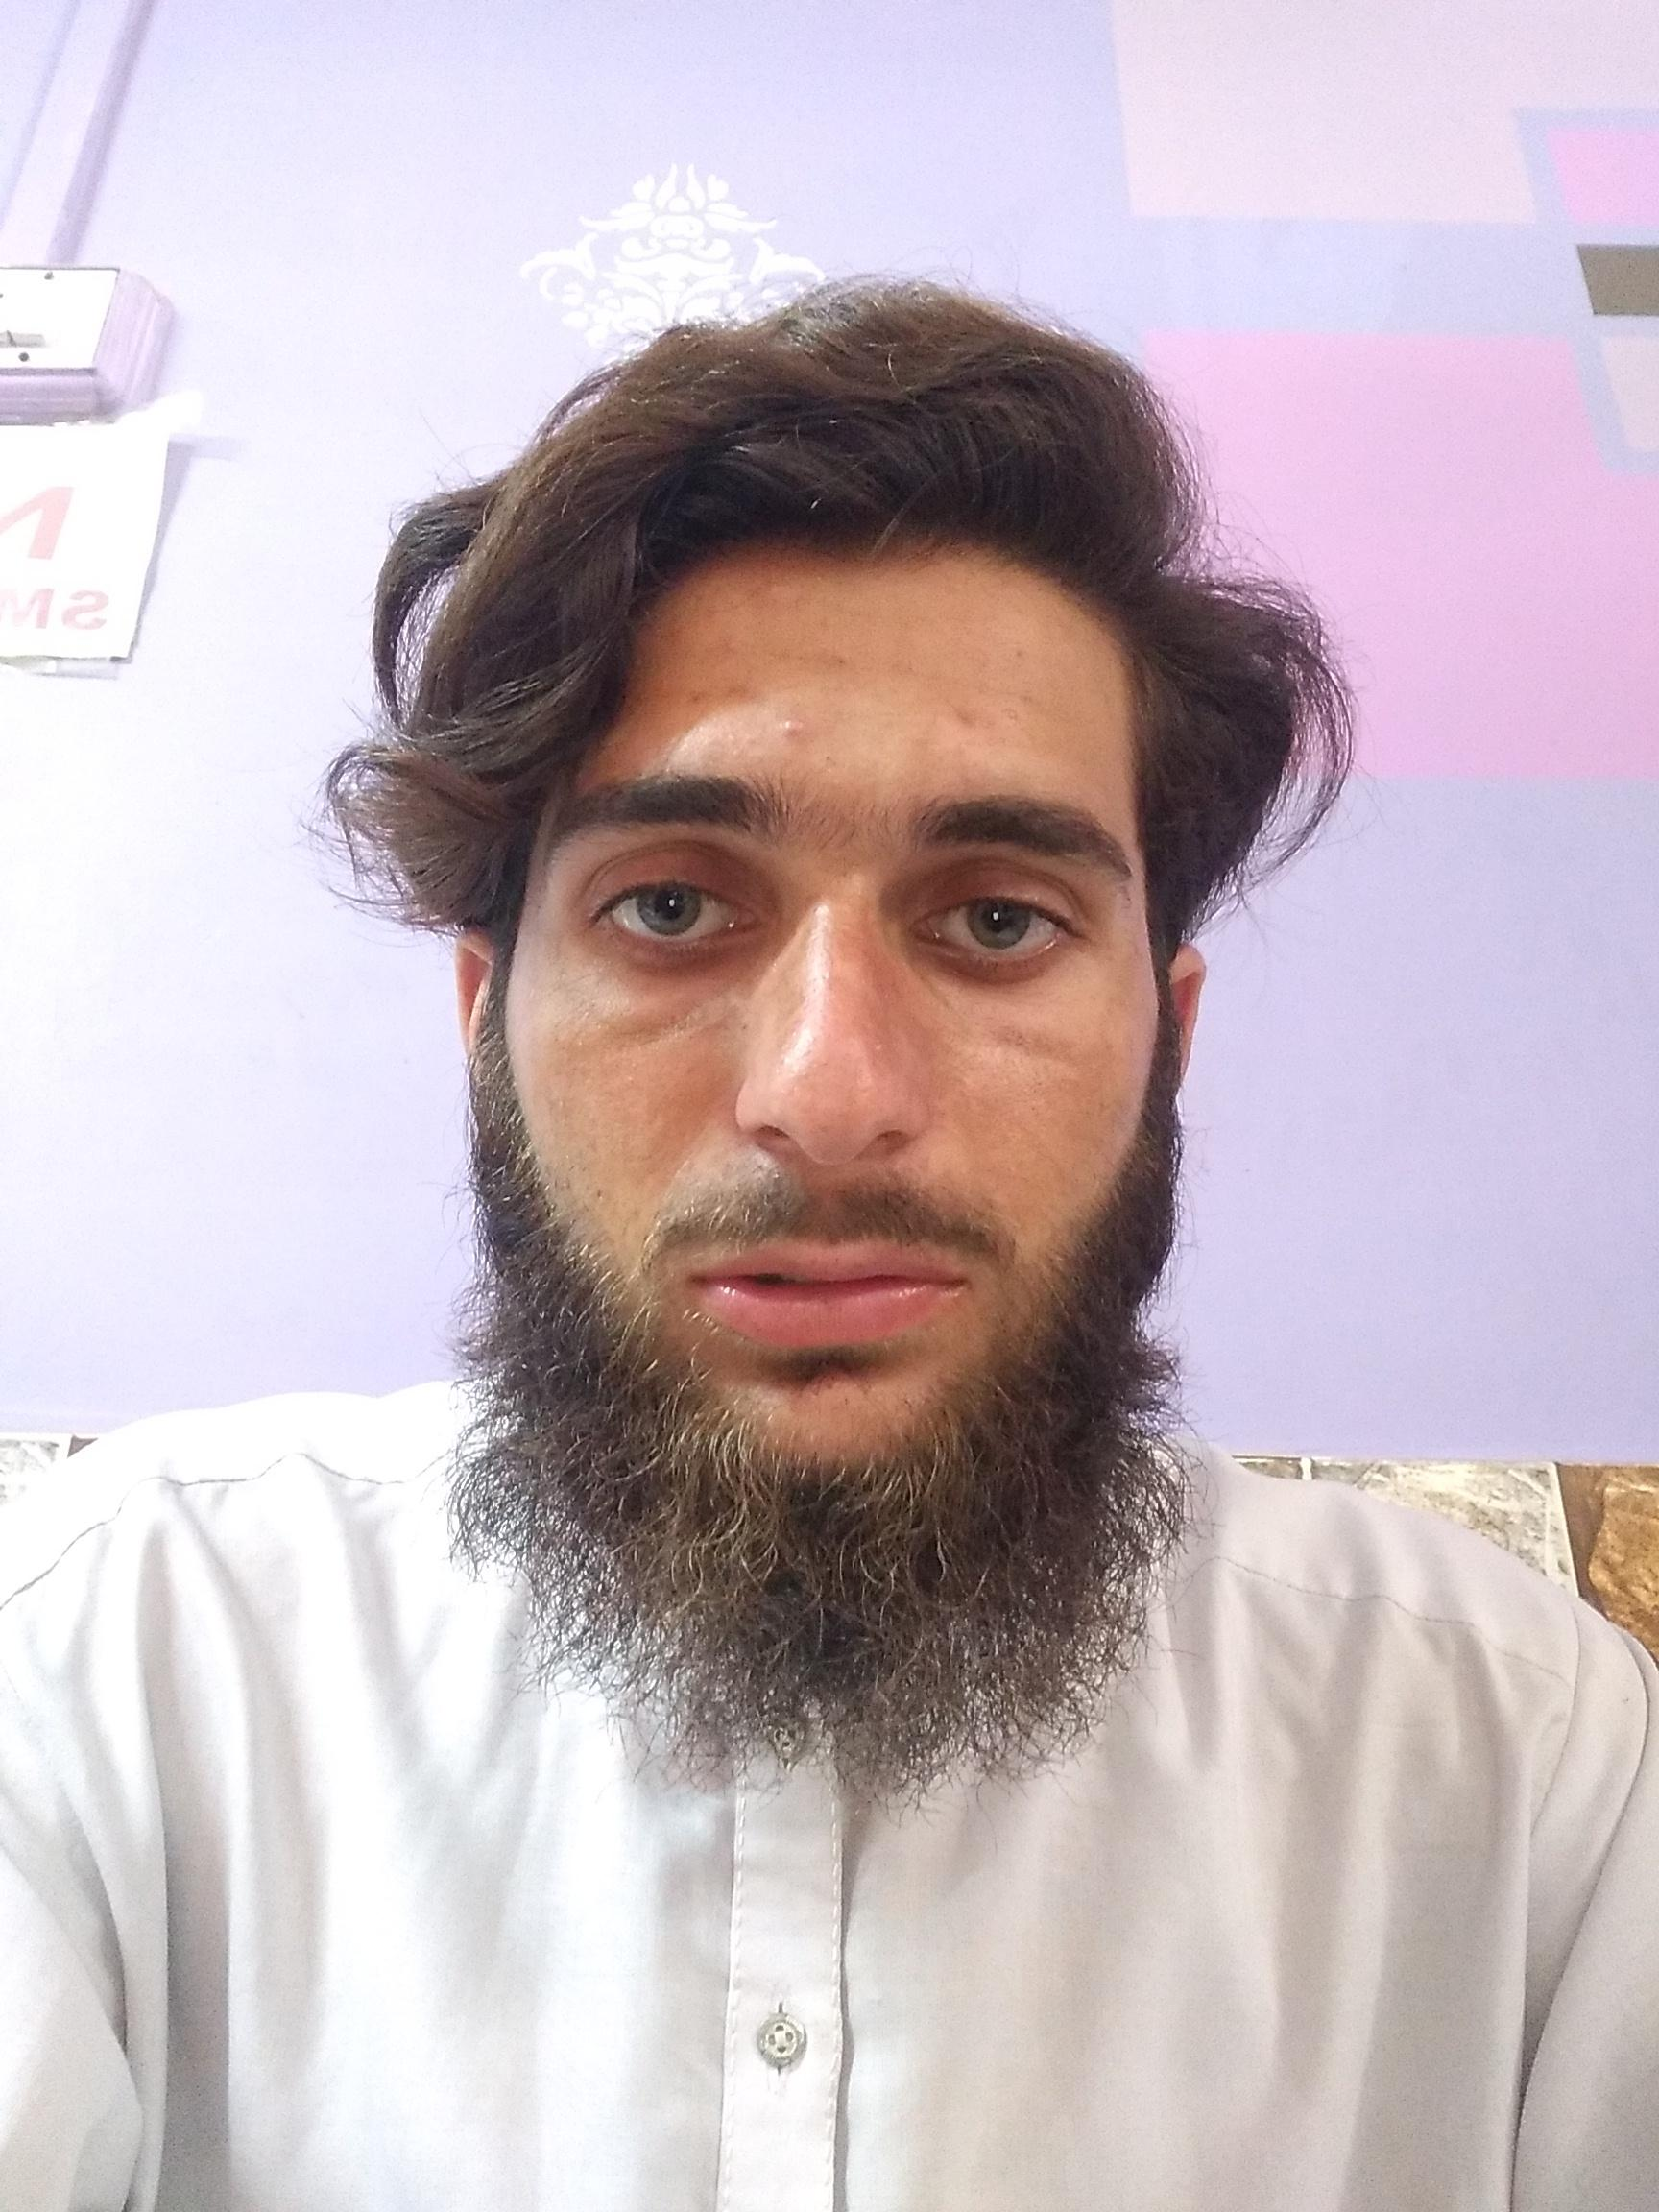Acne: (945, 700, 976, 737), (779, 712, 807, 740), (721, 681, 758, 702), (997, 700, 1025, 726), (714, 634, 742, 658), (687, 688, 713, 709)
Englarged-Pores: (979, 1050, 1060, 1137)
Eyebags: (579, 921, 777, 988), (908, 932, 1082, 988)
Wrinkles: (755, 646, 1026, 698), (606, 1000, 720, 1057), (653, 1111, 714, 1204), (979, 1019, 1087, 1066)
